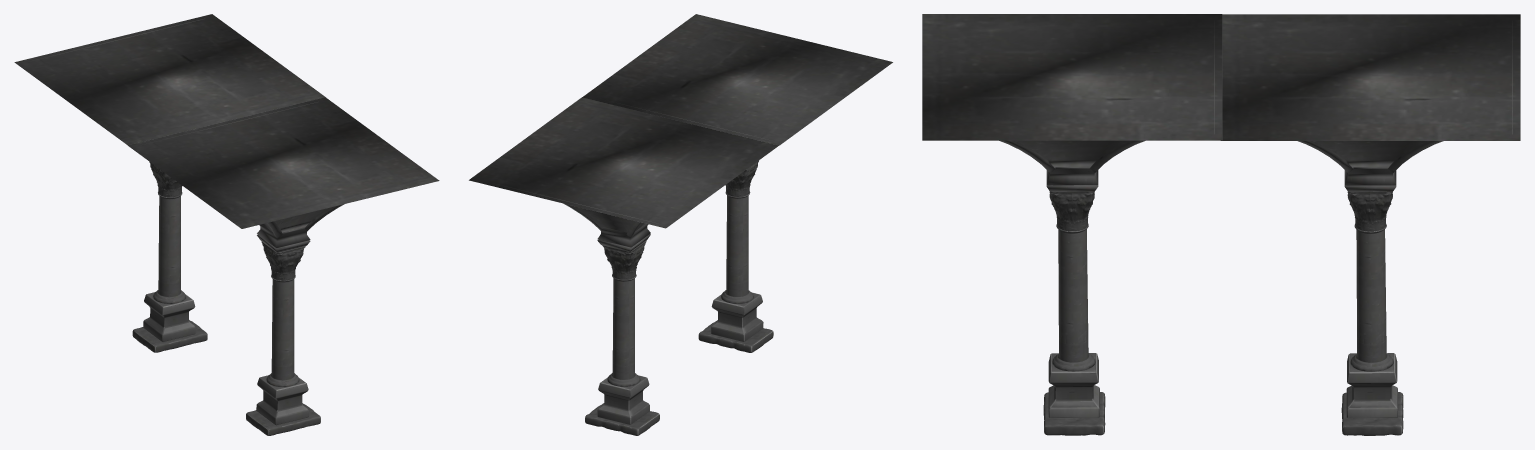
File: Crypte.glb
The picture shows the model from 3 angles, left to right: view 1: azimuth 30°, elevation 25°; view 2: azimuth 150°, elevation 25°; view 3: azimuth 270°, elevation 25°; orthographic projection. The views are drawn at different scales.
Visible parts, largest first — view 1: Cube.002; view 2: Cube.002; view 3: Cube.002.
Boxes of the visible parts, x1=… form: Cube.002: x1=14, y1=14, x2=439, y2=435; Cube.002: x1=469, y1=14, x2=892, y2=435; Cube.002: x1=922, y1=14, x2=1520, y2=435.
Bounding box in the file's own units: 6.28 × 7.89 × 12.51.
1 material, 1 textured.
